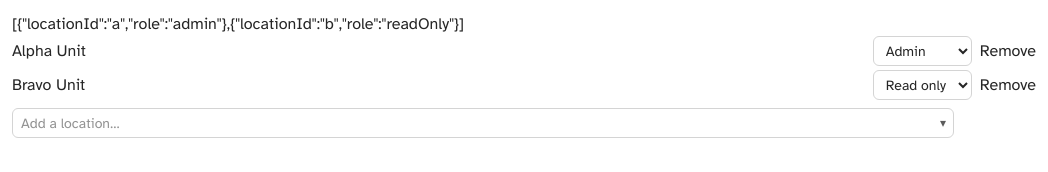
Test: LocationRolesField › removes a row
The image size is (1048, 172).
Click the button with aria-label "Remove Alpha Unit".
click(1008, 51)  # box [980,39,1036,63]
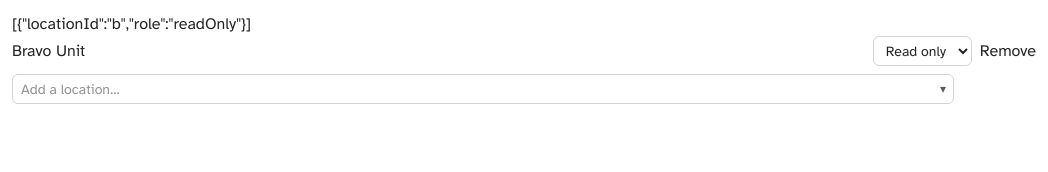
Expected: the text "Alpha Unit" is gone
